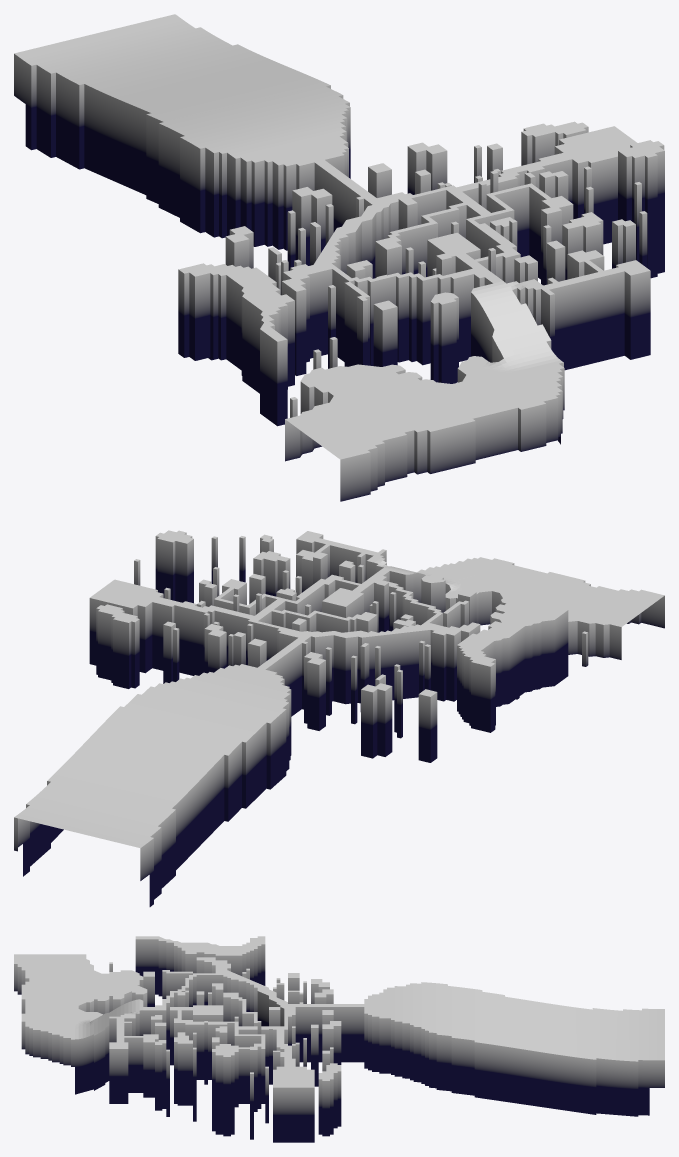
The model's file is BarrensPart5.obj.
3 views of the same model, one above another, from view 1: azimuth 30°, elevation 25°; view 2: azimuth 150°, elevation 25°; view 3: azimuth 270°, elevation 25° (orthographic). The views are drawn at different scales.
Parts seen in each view (by area): view 1: BarrensPart5; view 2: BarrensPart5; view 3: BarrensPart5.
Boxes of the visible parts, <box> form: BarrensPart5: <box>14,14,664,501</box>; BarrensPart5: <box>14,530,664,906</box>; BarrensPart5: <box>14,936,664,1142</box>.
Bounding box in the file's own units: 100 × 31 × 171.
